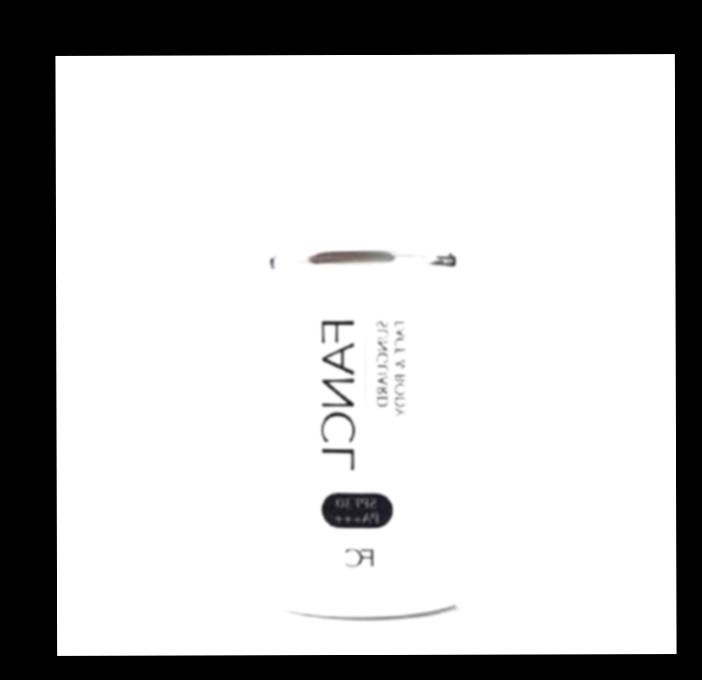cosmetic: (256, 135, 468, 619)
